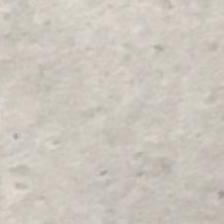Non_Crack: (5, 6, 224, 224)
